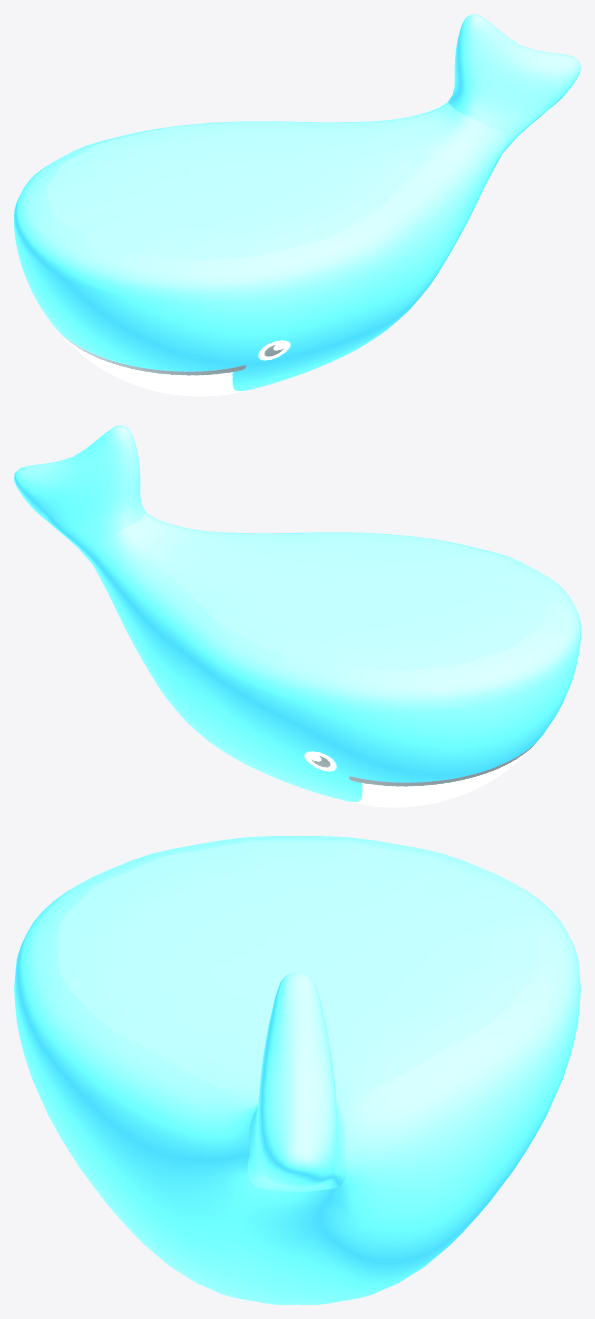
The model's file is whale_textured.glb.
3 views of the same model, one above another, from view 1: azimuth 30°, elevation 25°; view 2: azimuth 150°, elevation 25°; view 3: azimuth 270°, elevation 25° (orthographic). The views are drawn at different scales.
Visible parts, largest first — view 1: Sphere; view 2: Sphere; view 3: Sphere.
Boxes of the visible parts, x1,y1,x2,y2 form: Sphere: (14,14,580,396); Sphere: (14,425,580,807); Sphere: (14,836,580,1304).
Bounding box in the file's own units: 8.83 × 4.72 × 5.21.
